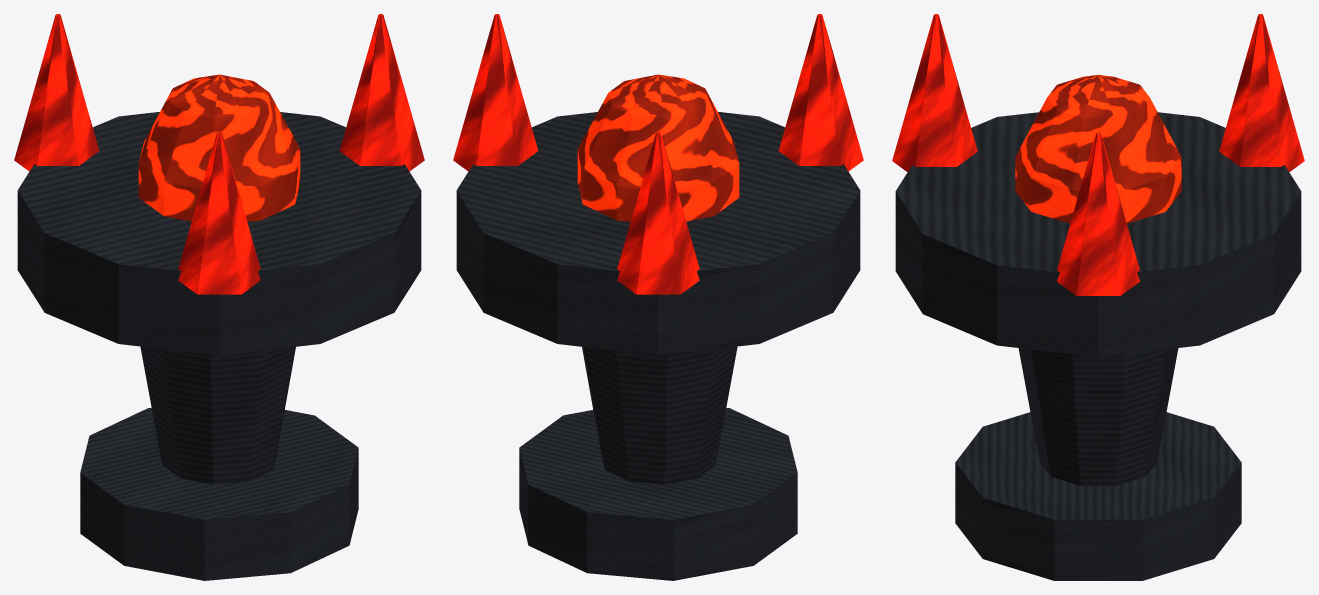
Rendered from SM_FC_Brazier.glb.
3 renders of one model, left to right at view 1: azimuth 30°, elevation 25°; view 2: azimuth 150°, elevation 25°; view 3: azimuth 270°, elevation 25°, orthographic.
Visible parts, largest first — view 1: SM_FC_Brazier; view 2: SM_FC_Brazier; view 3: SM_FC_Brazier.
Boxes of the visible parts, x1,y1,x2,y2 form: SM_FC_Brazier: [14, 14, 424, 580]; SM_FC_Brazier: [453, 14, 863, 580]; SM_FC_Brazier: [892, 14, 1304, 580].
Size of the model in its own units: 1.65 by 1.99 by 1.59.
Materials: 3 (3 with a texture image).
